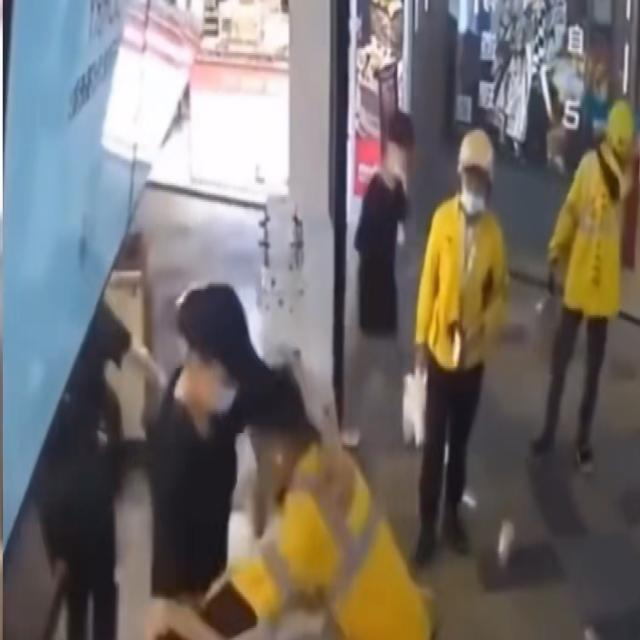fight: (162, 289, 371, 546)
nofight: (542, 100, 630, 467), (425, 131, 485, 562), (356, 119, 416, 424)
